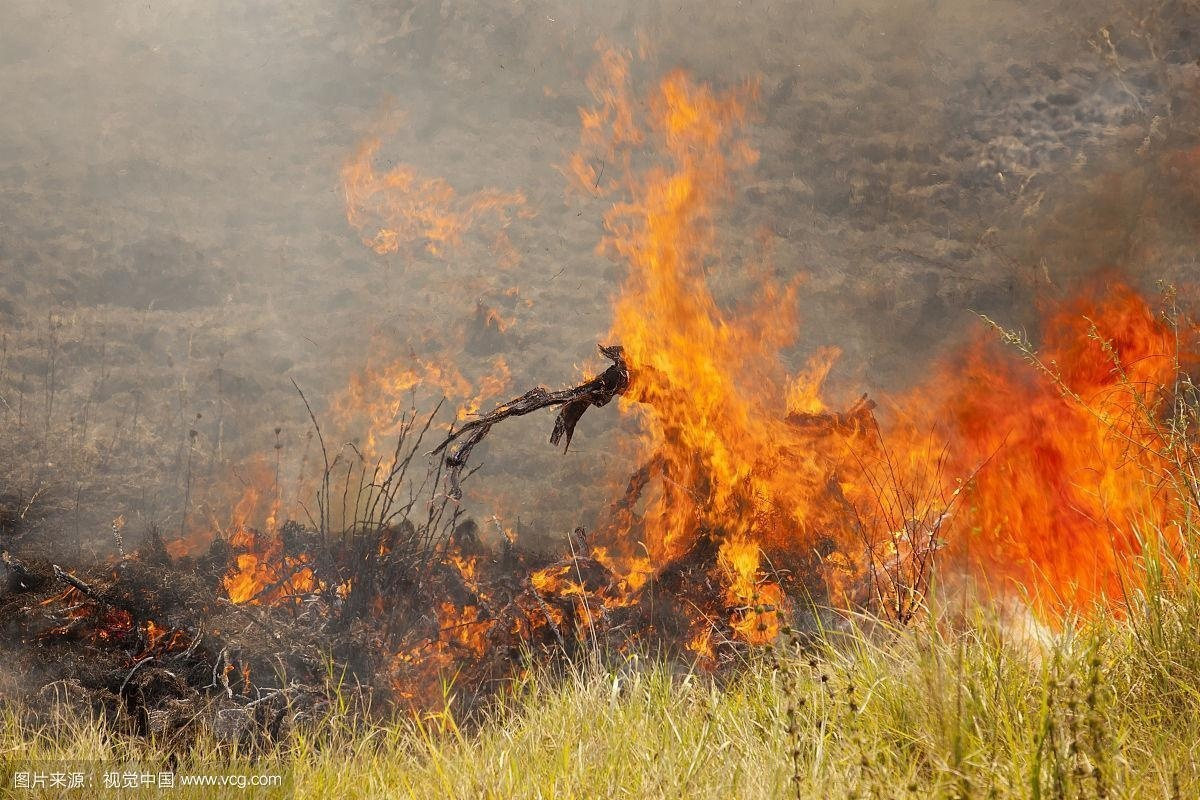fire: (241, 53, 1129, 718)
